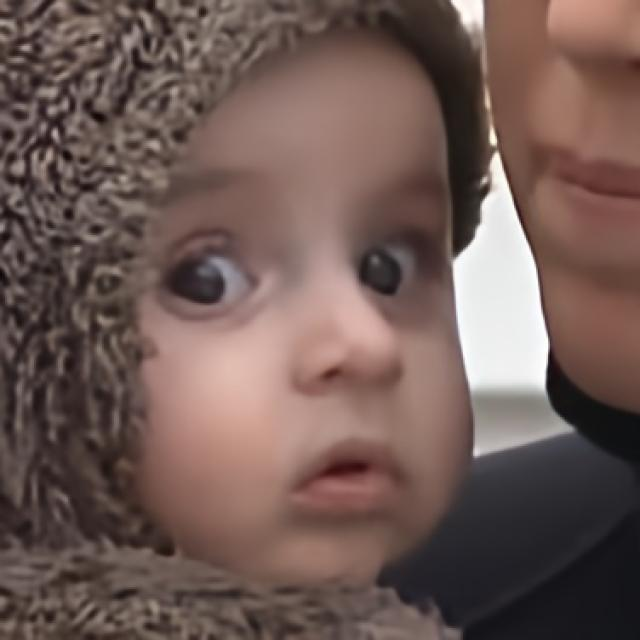Fear: (130, 25, 474, 592)
